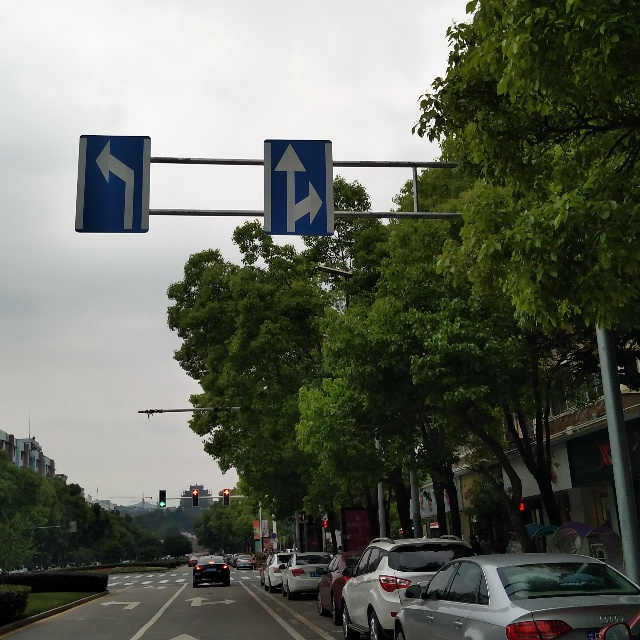left: (84, 135, 144, 233)
